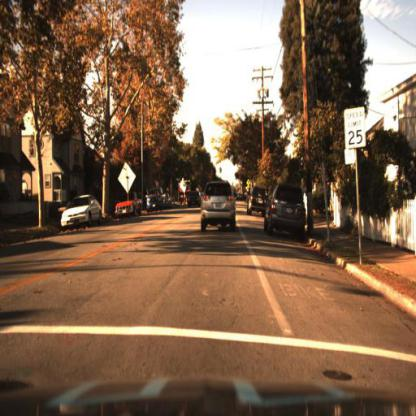car: (265, 184, 308, 235), (59, 191, 105, 235), (200, 189, 238, 242), (61, 196, 105, 227), (110, 193, 144, 224), (247, 186, 270, 220), (115, 192, 140, 220), (183, 187, 204, 218), (248, 187, 269, 218), (147, 182, 165, 216), (187, 190, 204, 212)
